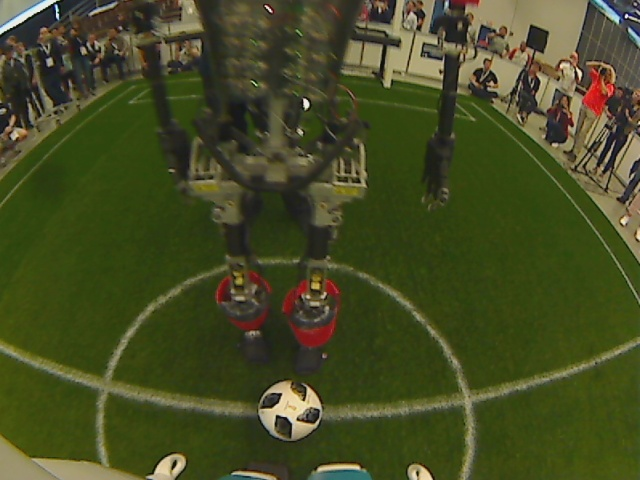ball: (256, 376, 326, 445)
